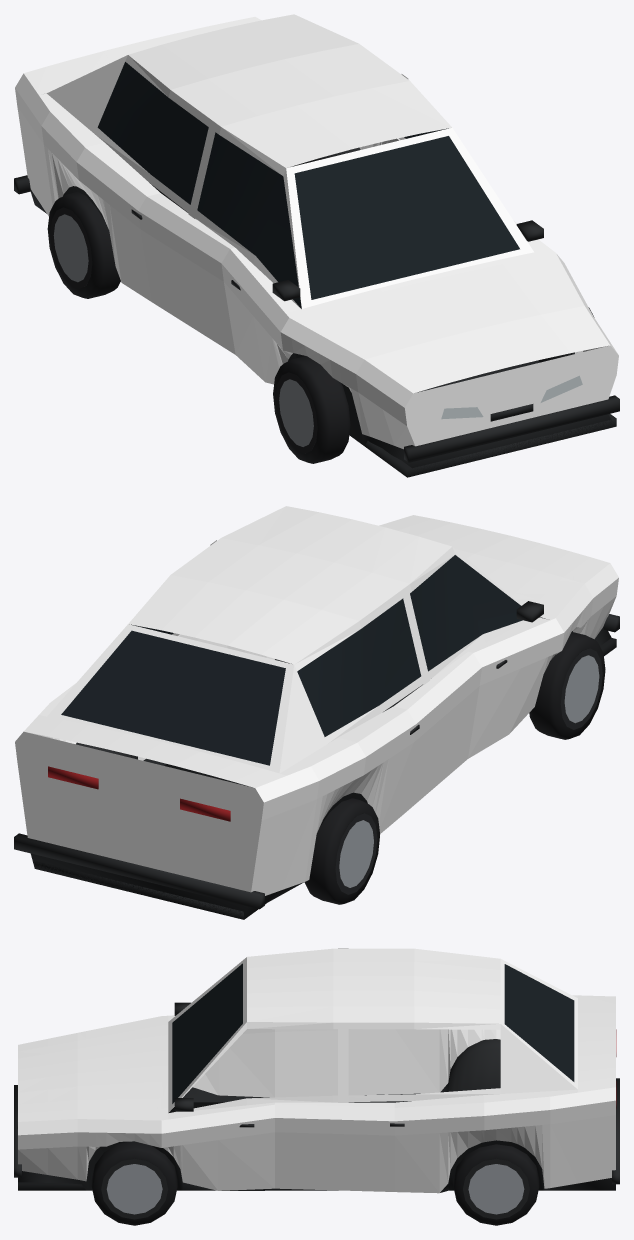
File: ottavo_bruma.glb
3 views of the same model, one above another, from view 1: azimuth 30°, elevation 25°; view 2: azimuth 150°, elevation 25°; view 3: azimuth 270°, elevation 25° (orthographic). The views are drawn at different scales.
Visible parts, largest first — view 1: Body_Paint, Body_Details, Mount_FrontLeft_Wheel_Details, Mount_RearLeft_Wheel_Details; view 2: Body_Paint, Body_Details, Mount_RearLeft_Wheel_Details, Mount_FrontLeft_Wheel_Details; view 3: Body_Paint, Body_Details, Mount_FrontRight_Wheel_Details, Mount_RearRight_Wheel_Details.
Part boxes in pixels (x1,y1,x2,y2): Body_Paint: (15,14,618,449); Body_Details: (14,62,619,477); Mount_FrontLeft_Wheel_Details: (273,356,350,463); Mount_RearLeft_Wheel_Details: (47,192,120,298); Body_Paint: (15,506,618,895); Body_Details: (14,555,619,919); Mount_RearLeft_Wheel_Details: (304,798,379,904); Mount_FrontLeft_Wheel_Details: (529,632,605,739); Body_Paint: (18,948,615,1193); Body_Details: (14,963,619,1192); Mount_FrontRight_Wheel_Details: (91,1141,177,1225); Mount_RearRight_Wheel_Details: (453,1144,539,1225).
Bounding box in the file's own units: 1.84 × 1.43 × 4.16.
2 materials, 1 textured.
